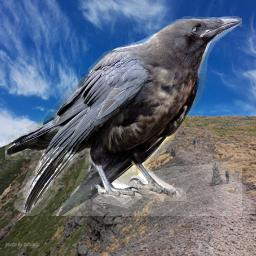Crow: (5, 16, 242, 216)
